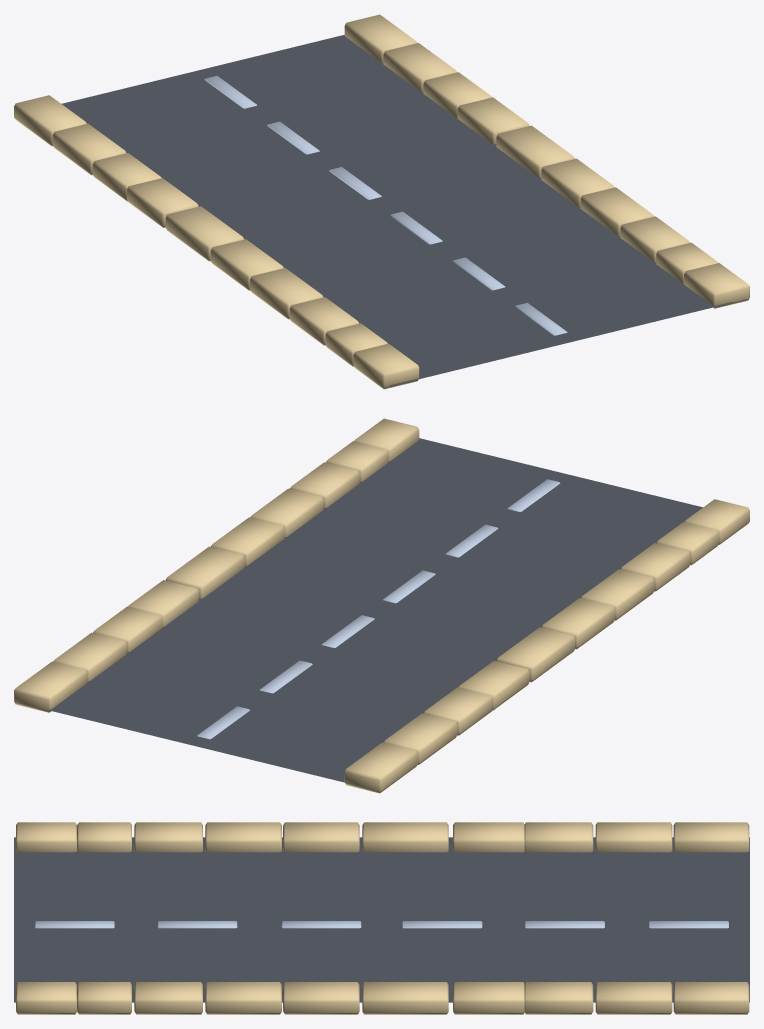
3 views of the same model, one above another, from view 1: azimuth 30°, elevation 25°; view 2: azimuth 150°, elevation 25°; view 3: azimuth 270°, elevation 25° (orthographic).
Visible parts, largest first — view 1: Straight_road_1; view 2: Straight_road_1; view 3: Straight_road_1.
Part boxes in pixels (bbox=[...]): Straight_road_1: bbox=[14, 14, 749, 389]; Straight_road_1: bbox=[14, 418, 749, 793]; Straight_road_1: bbox=[14, 822, 749, 1014].
Bounding box in the file's own units: 1329 × 56.94 × 2328.
